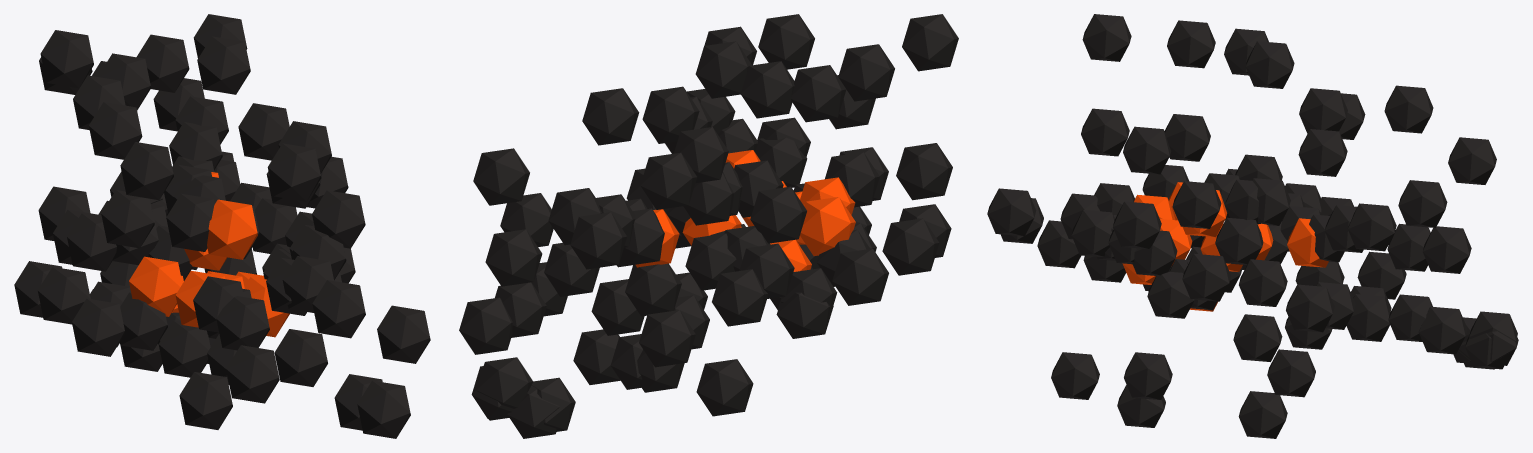
3 views of the same model, side by side, from view 1: azimuth 30°, elevation 25°; view 2: azimuth 150°, elevation 25°; view 3: azimuth 270°, elevation 25° (orthographic). The views are drawn at different scales.
Parts seen in each view (by area): view 1: Smoke, FireTrail; view 2: Smoke, FireTrail; view 3: Smoke, FireTrail.
Boxes of the visible parts, bbox=[...] form: Smoke: bbox=[14, 14, 430, 438]; FireTrail: bbox=[129, 172, 289, 337]; Smoke: bbox=[459, 14, 958, 438]; FireTrail: bbox=[635, 150, 855, 271]; Smoke: bbox=[987, 14, 1518, 438]; FireTrail: bbox=[1122, 182, 1328, 311].
Bounding box in the file's own units: 37.57 × 36.81 × 55.48.
